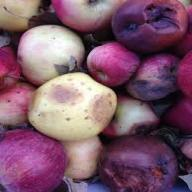apple: (27, 76, 128, 136), (4, 128, 74, 190), (99, 136, 179, 190), (112, 2, 190, 46), (123, 50, 185, 96), (84, 41, 140, 84)
